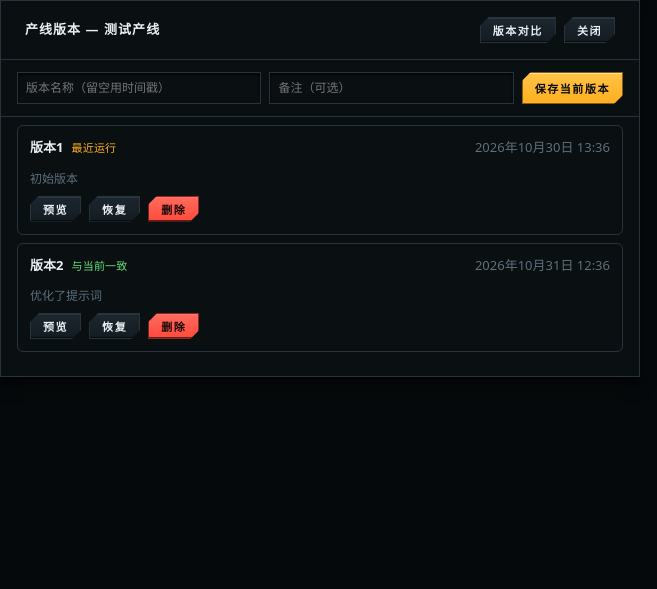
Scenario: VersionPanel › 版本对比 › 两个快照相同时显示完全相同提示
This screenshot has width=657, height=589.
Click the button "版本对比" at x=518, y=30, box [480,17,556,43]
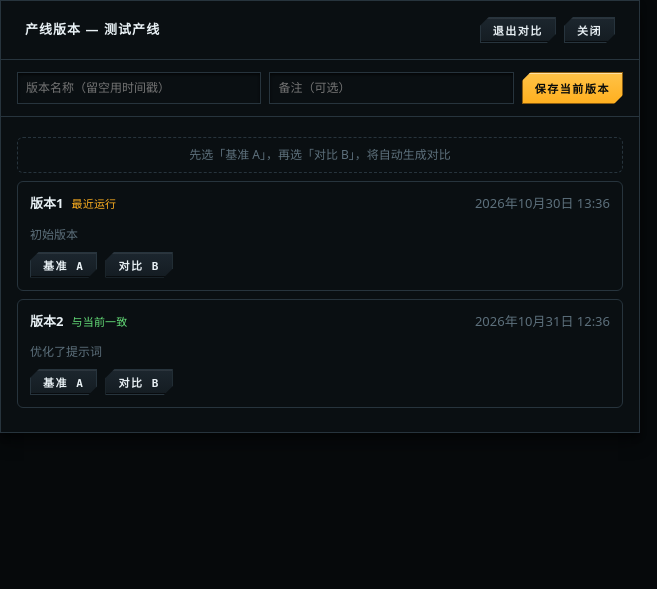
Click the button "基准 A" below "初始版本" at x=64, y=264, box [30,252,97,278]
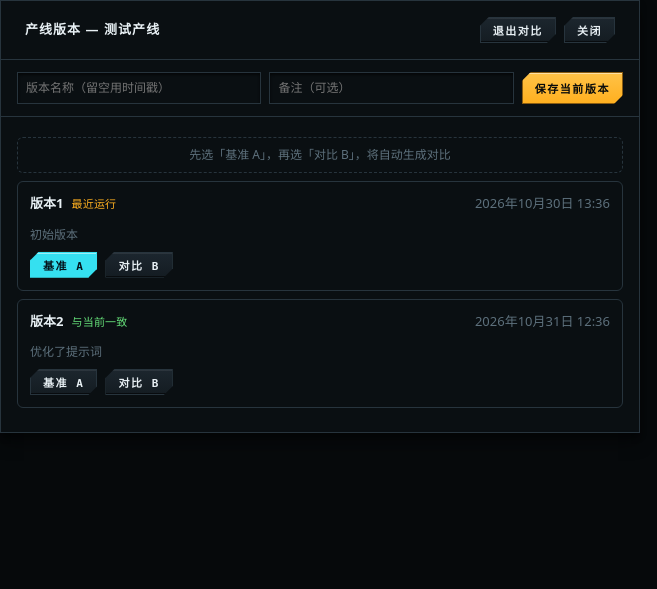
Click the button "对比 B" below "优化了提示词" at x=139, y=382, box [105,369,173,395]
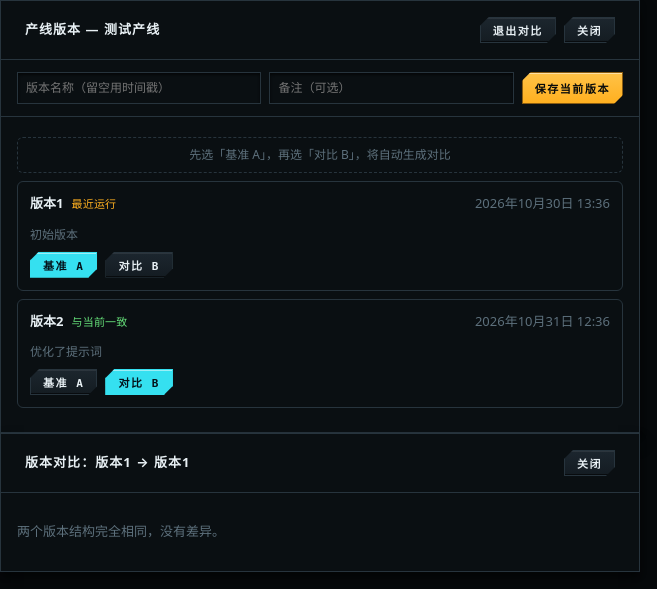
Expected: the text "两个版本结构完全相同，没有差异。" is shown, [17,522,225,540]
